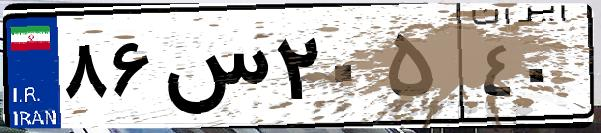0: (330, 28, 385, 110), (525, 38, 570, 115)
2: (270, 28, 330, 110)
4: (475, 38, 525, 113)
5: (385, 28, 445, 110)
6: (110, 28, 158, 98)
8: (57, 26, 110, 100)
س: (158, 20, 270, 120)
